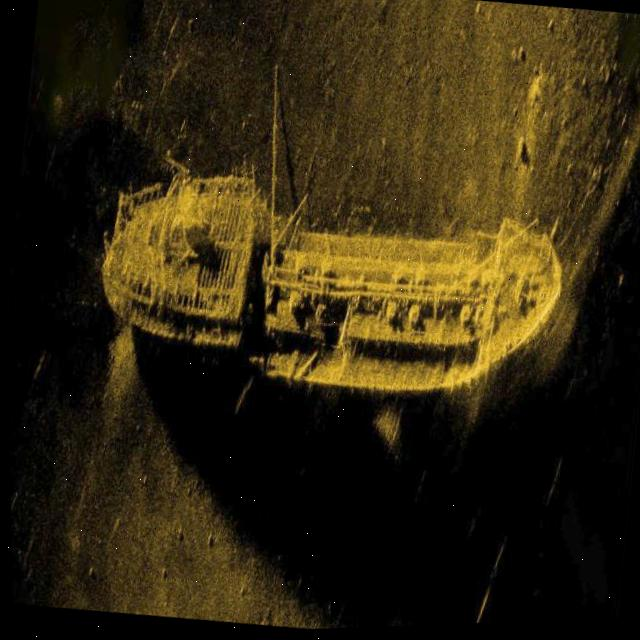shipwreck: (84, 162, 571, 422)
